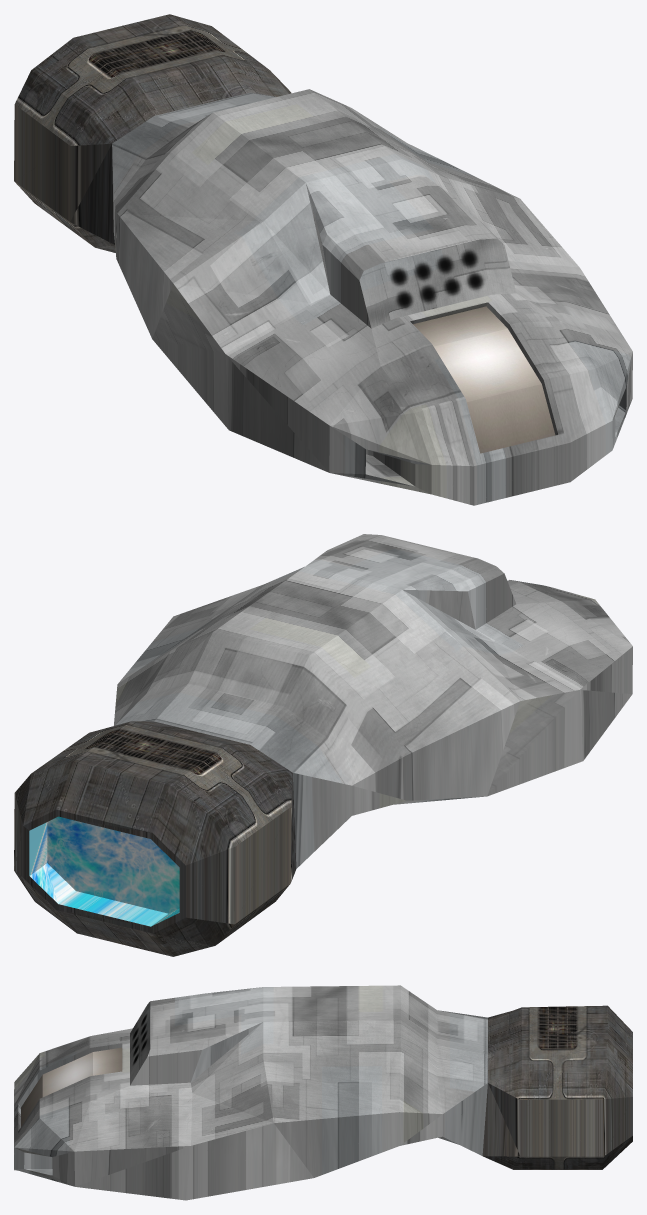
The model's file is PHFighter 1.FBX.
3 views of the same model, one above another, from view 1: azimuth 30°, elevation 25°; view 2: azimuth 150°, elevation 25°; view 3: azimuth 270°, elevation 25° (orthographic). The views are drawn at different scales.
Parts seen in each view (by area): view 1: Line001; view 2: Line001; view 3: Line001.
Part boxes in pixels (box(x1,y1,x2,y2)): Line001: box(14, 14, 632, 505); Line001: box(14, 534, 632, 956); Line001: box(14, 985, 632, 1200).
Size of the model in its own units: 4.92 by 3 by 10.05.
Materials: 1 (1 with a texture image).
